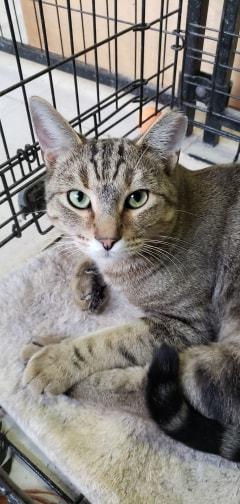bengal: (19, 85, 196, 279)
